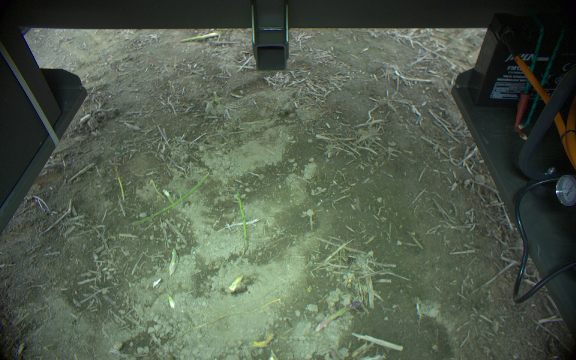aspa: (131, 173, 211, 227), (315, 298, 362, 335), (231, 180, 251, 255), (175, 32, 222, 44)
